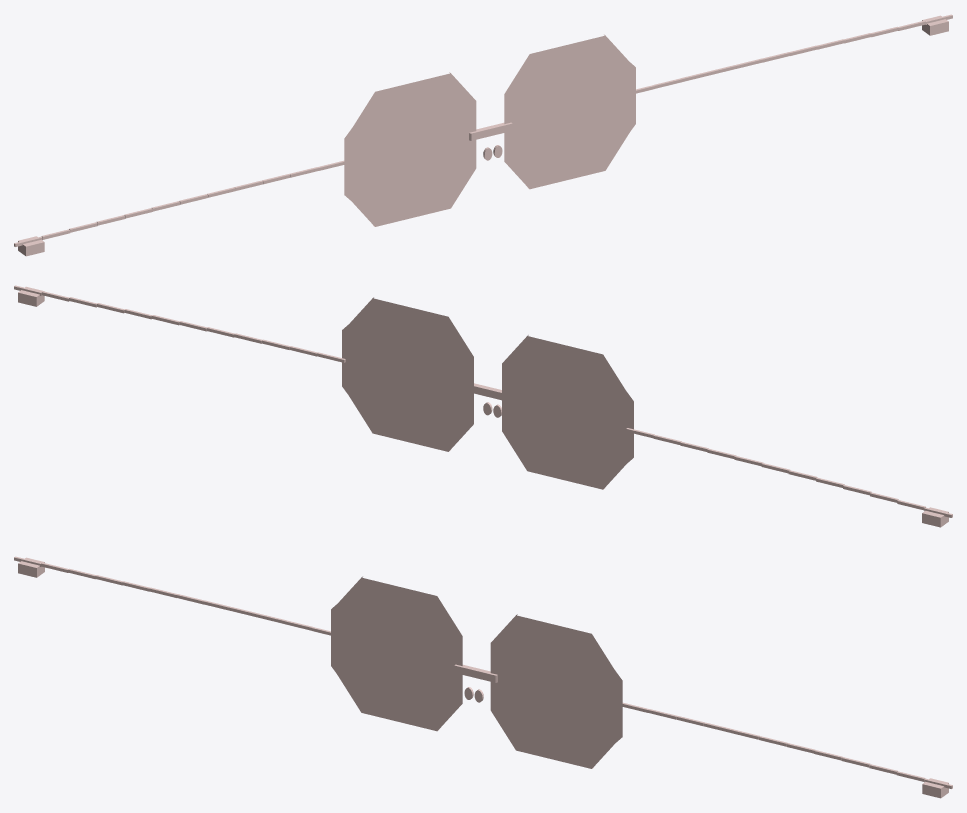
The model's file is toolkit_test.glb.
3 renders of one model, top to bottom at view 1: azimuth 30°, elevation 25°; view 2: azimuth 150°, elevation 25°; view 3: azimuth 330°, elevation 25°, orthographic.
Visible parts, largest first — view 1: LeftRim, RightRim, LeftTemple, RightTemple, Frame, TempleTips; view 2: RightRim, LeftRim, RightTemple, LeftTemple, Frame, TempleTips; view 3: RightRim, LeftRim, RightTemple, LeftTemple, Frame, TempleTips.
Part boxes in pixels (<box>): LeftRim: <box>349,72,476,226</box>; RightRim: <box>504,34,630,189</box>; LeftTemple: <box>14,160,344,246</box>; RightTemple: <box>636,14,952,93</box>; Frame: <box>344,63,635,199</box>; TempleTips: <box>18,15,948,256</box>; RightRim: <box>347,297,473,451</box>; LeftRim: <box>502,335,628,489</box>; RightTemple: <box>14,285,345,362</box>; LeftTemple: <box>626,428,952,517</box>; Frame: <box>342,325,633,462</box>; TempleTips: <box>18,286,948,527</box>; RightRim: <box>490,614,617,768</box>; LeftRim: <box>336,576,462,731</box>; RightTemple: <box>622,702,952,788</box>; LeftTemple: <box>14,556,330,635</box>; Frame: <box>331,605,622,741</box>; TempleTips: <box>18,557,948,798</box>.
Bounding box in the file's own units: 400 × 55.2 × 10.5.
